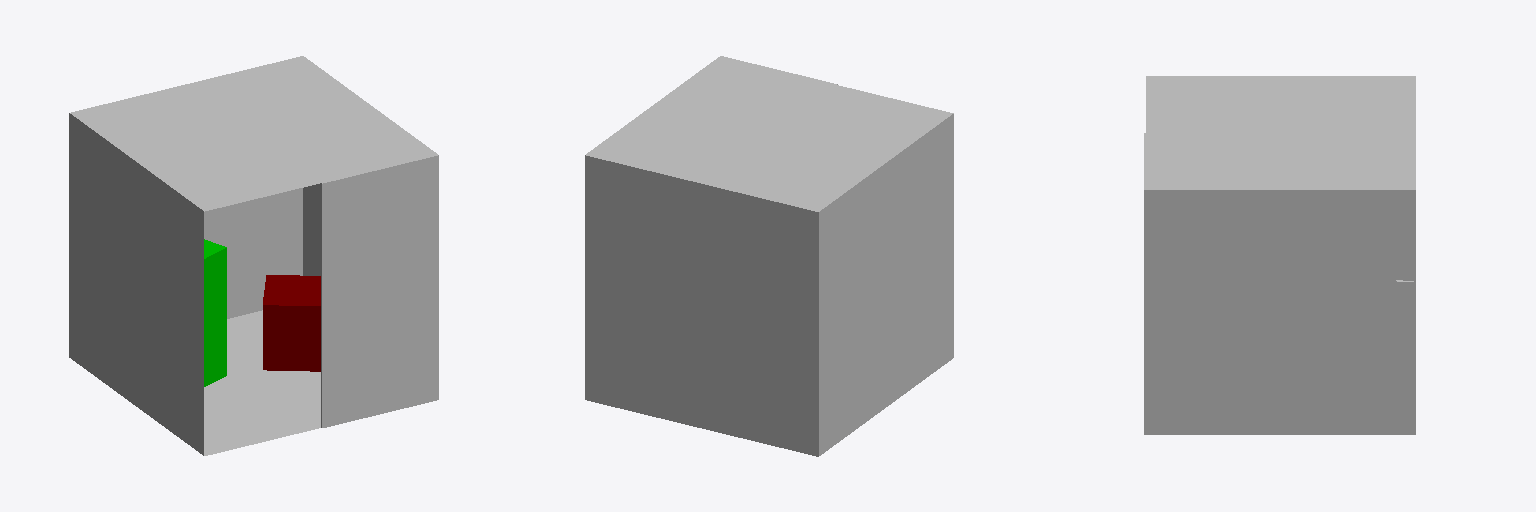
File: transmissionBox.obj
The picture shows the model from 3 angles: view 1: azimuth 30°, elevation 25°; view 2: azimuth 150°, elevation 25°; view 3: azimuth 270°, elevation 25°; orthographic projection.
Visible parts, largest first — view 1: Cube.001, Cube.003, Cube.002, Cube; view 2: Cube.001; view 3: Cube.001, Cube.003.
Part boxes in pixels (left/top/right/bottom): Cube.001: left=69, top=56, right=436, bottom=455; Cube.003: left=321, top=154, right=438, bottom=427; Cube.002: left=263, top=275, right=320, bottom=371; Cube: left=204, top=239, right=226, bottom=386; Cube.001: left=585, top=57, right=953, bottom=456; Cube.001: left=1146, top=76, right=1415, bottom=434; Cube.003: left=1144, top=133, right=1146, bottom=434.
Bounding box in the file's own units: 4.06 × 4 × 4.03.